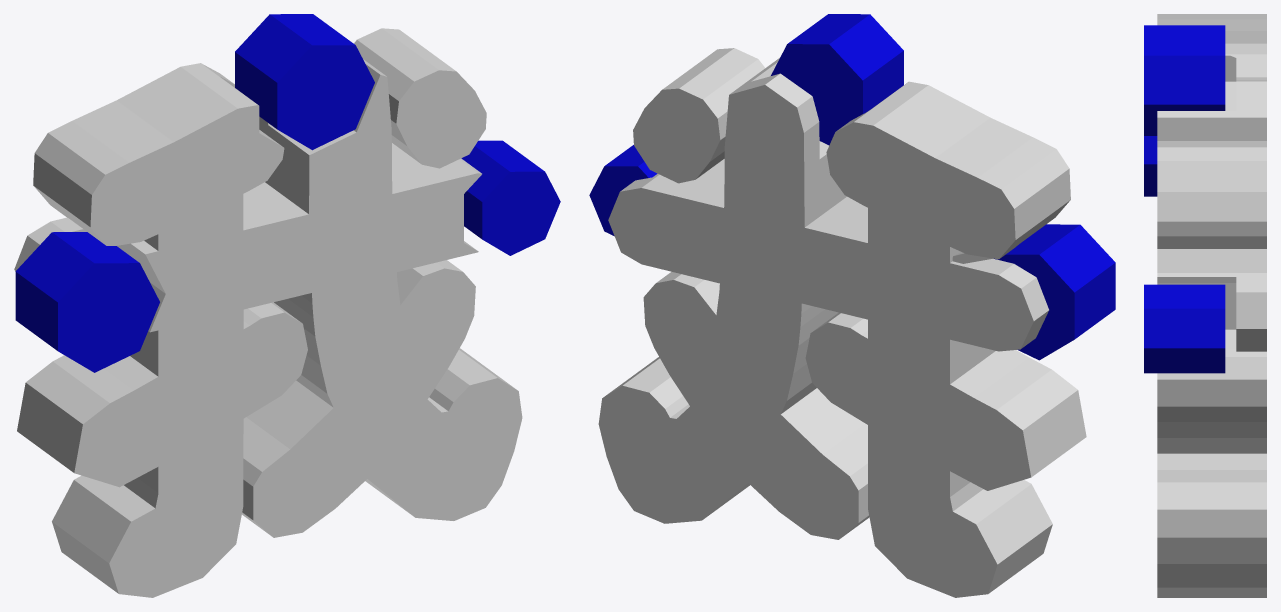
Rendered from Ch_Lite_China_我_01.fbx.
3 renders of one model, left to right at view 1: azimuth 30°, elevation 25°; view 2: azimuth 150°, elevation 25°; view 3: azimuth 270°, elevation 25°, orthographic. The views are drawn at different scales.
Visible parts, largest first — view 1: sphere1; view 2: sphere1; view 3: sphere1.
Boxes of the visible parts, x1,y1,x2,y2 form: sphere1: (14, 14, 560, 597); sphere1: (589, 14, 1115, 597); sphere1: (1144, 14, 1266, 597).
Bounding box in the file's own units: 1.01 × 1 × 0.2242.
